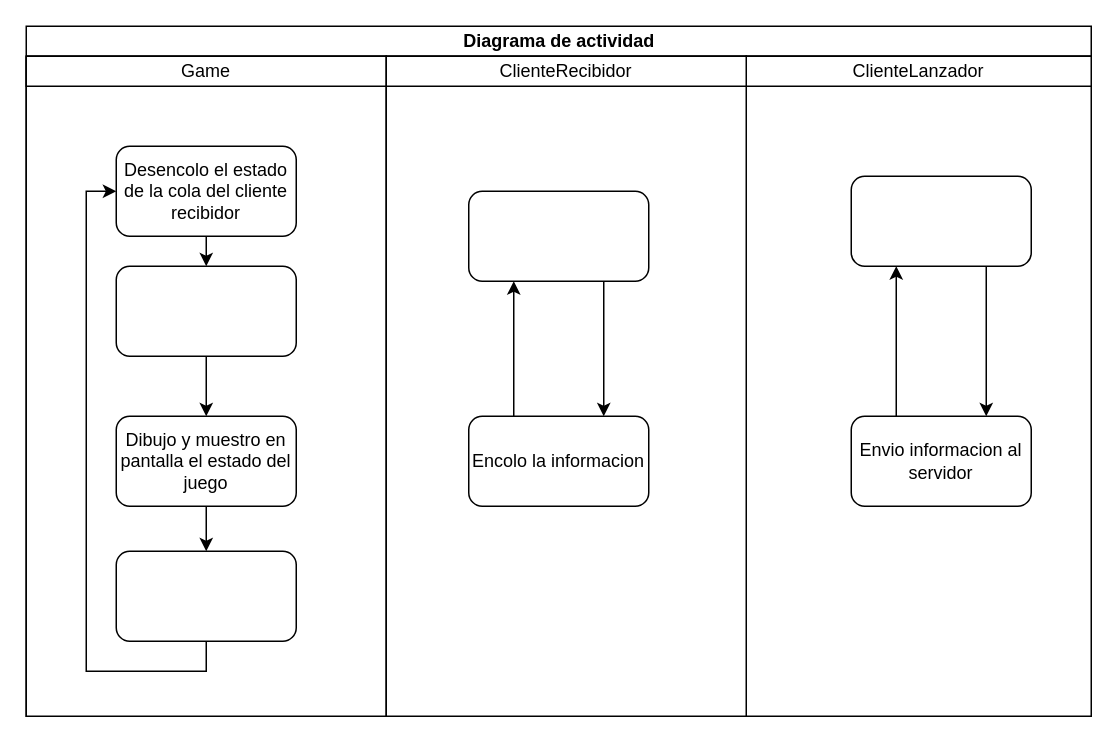
Image size: 1118x743. Some labels were removed from this diagram. Here are the shapes that lost their labels. From the top down, the centre of each, then its label:
pixel 558 235: Recibo informacion desde el servidor
pixel 940 220: Obtengo evento de una cola
pixel 205 310: Proceso el estado
pixel 205 595: Manejo eventos del cliente y lo encolo en la cola del lanzador
